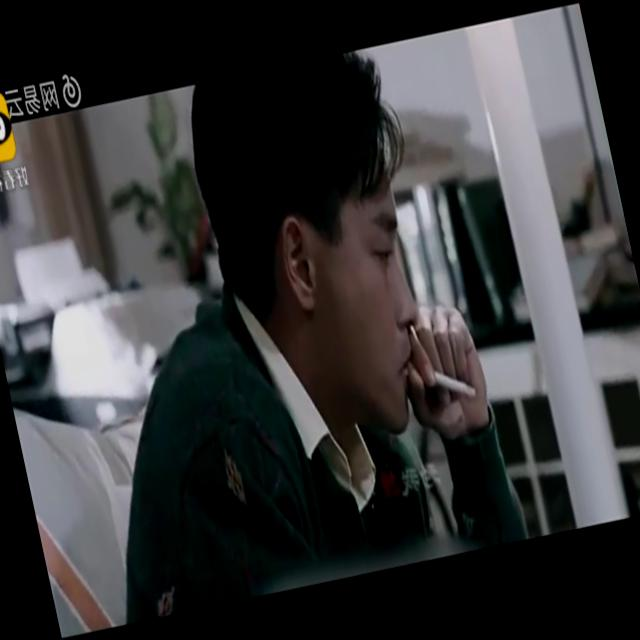cigarette: (410, 353, 478, 409)
